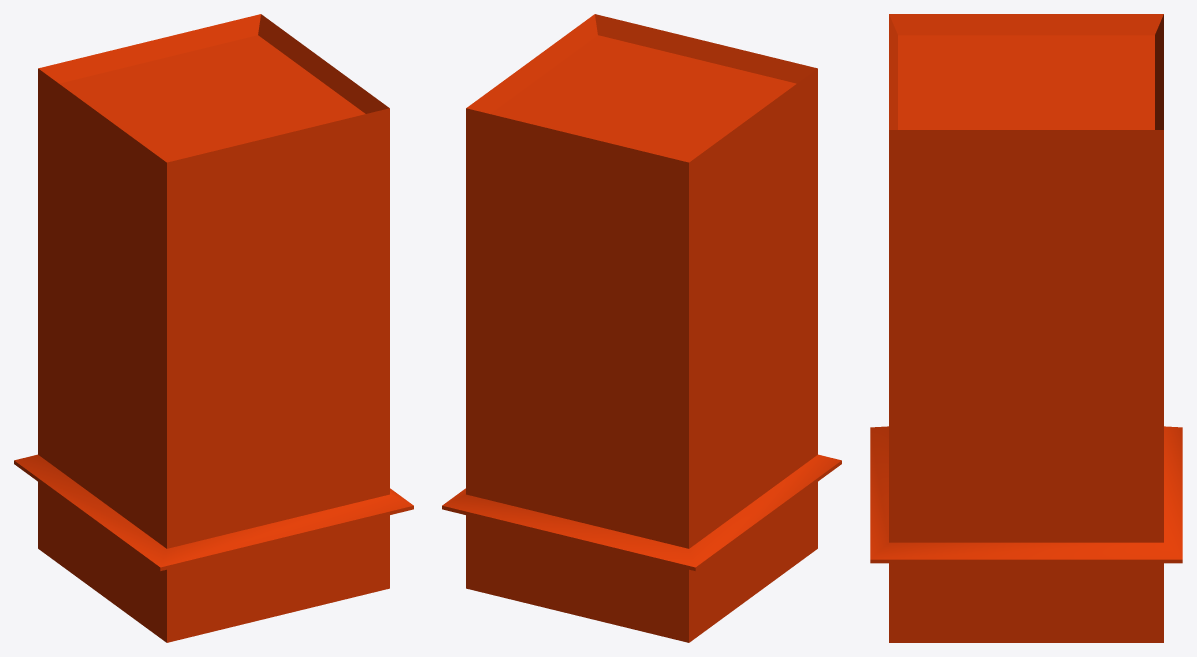
Rendered from cube.129_lev1_lev3.glb.
The picture shows the model from 3 angles, left to right: view 1: azimuth 30°, elevation 25°; view 2: azimuth 150°, elevation 25°; view 3: azimuth 270°, elevation 25°; orthographic projection. The views are drawn at different scales.
Parts seen in each view (by area): view 1: cube.129_lev1_lev3; view 2: cube.129_lev1_lev3; view 3: cube.129_lev1_lev3.
Boxes of the visible parts, x1,y1,x2,y2 form: cube.129_lev1_lev3: [14, 14, 413, 642]; cube.129_lev1_lev3: [442, 14, 841, 642]; cube.129_lev1_lev3: [870, 14, 1182, 642].
Size of the model in its own units: 4.07 by 7.36 by 4.07.
